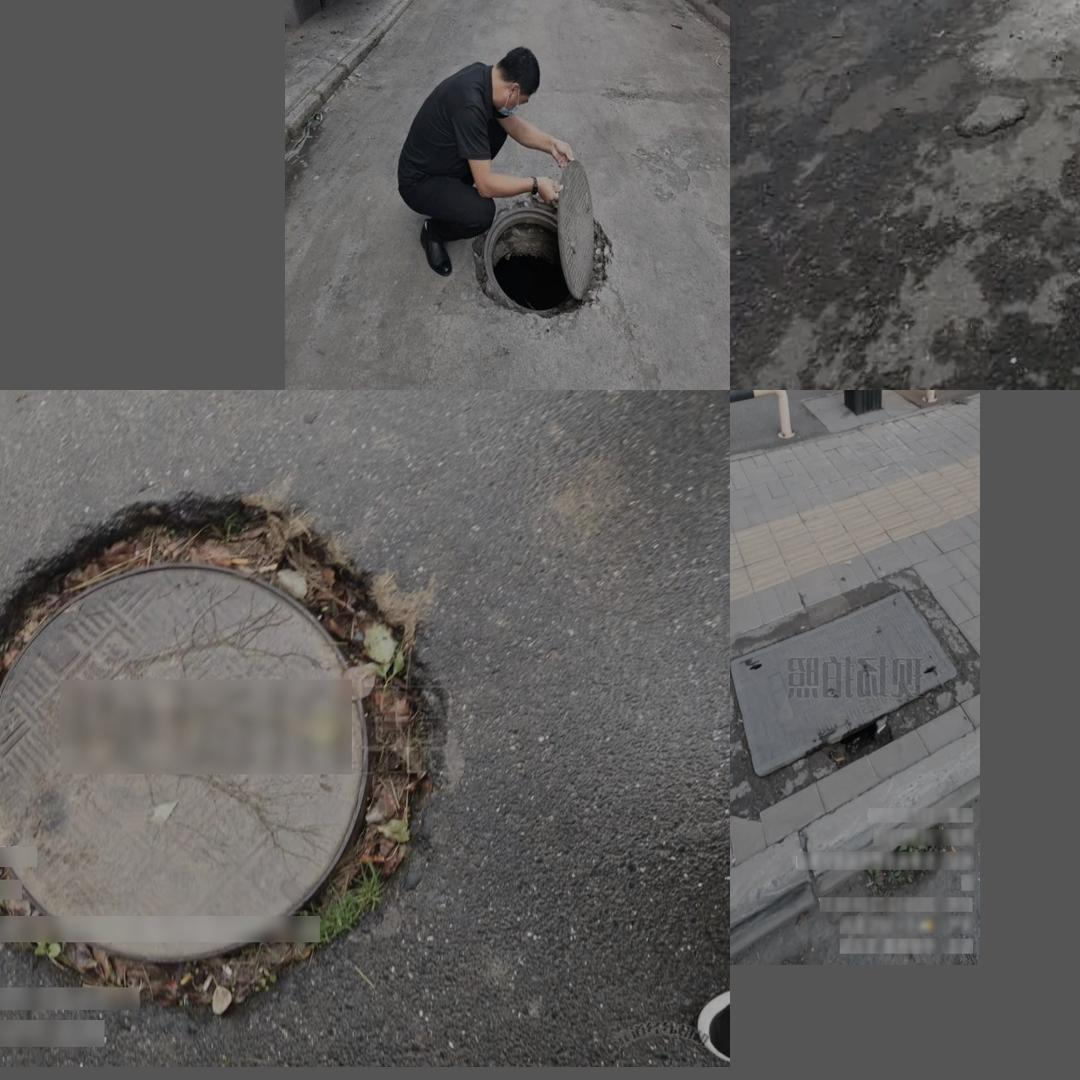circle: (0, 499, 447, 1008), (730, 566, 976, 796), (446, 172, 623, 333), (1033, 0, 1080, 94)
